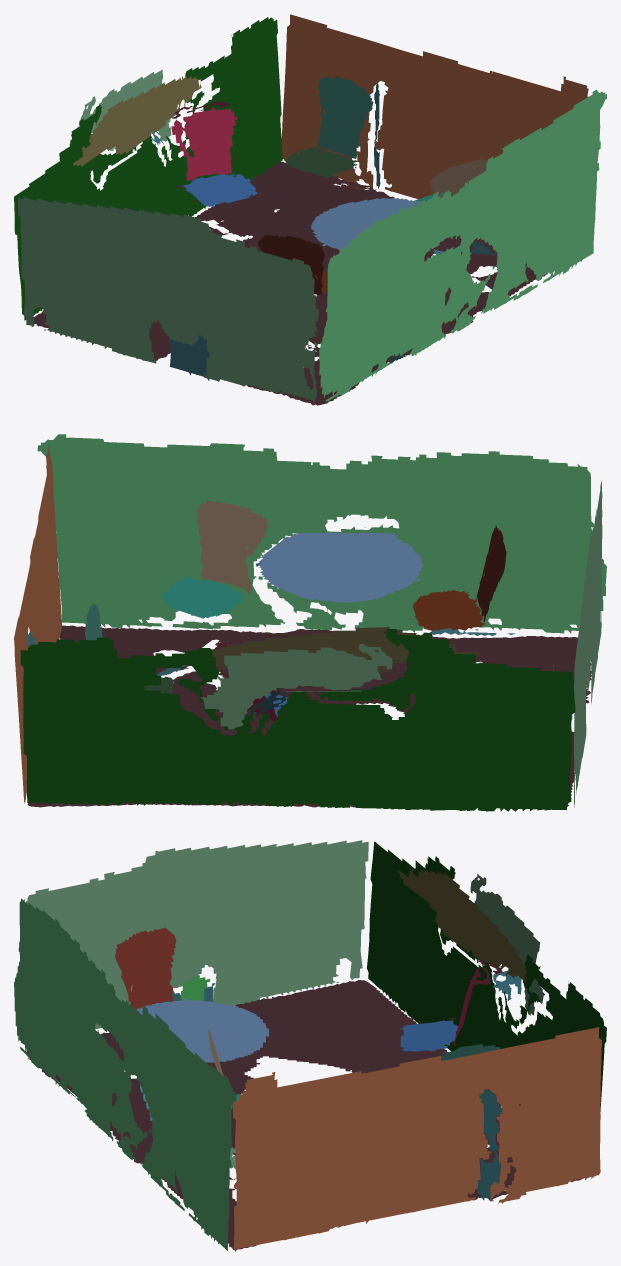
Rendered from ObjectSDF++-scene0427_00.glb.
3 views of the same model, one above another, from view 1: azimuth 30°, elevation 25°; view 2: azimuth 150°, elevation 25°; view 3: azimuth 270°, elevation 25° (orthographic). The views are drawn at different scales.
Parts seen in each view (by area): view 1: piecewise-ObjectSDF++-scene0427_00-lean; view 2: piecewise-ObjectSDF++-scene0427_00-lean; view 3: piecewise-ObjectSDF++-scene0427_00-lean.
Boxes of the visible parts, x1,y1,x2,y2 form: piecewise-ObjectSDF++-scene0427_00-lean: [14, 14, 606, 405]; piecewise-ObjectSDF++-scene0427_00-lean: [14, 434, 606, 811]; piecewise-ObjectSDF++-scene0427_00-lean: [14, 840, 606, 1251].
Size of the model in its own units: 4.29 by 1.34 by 3.87.
